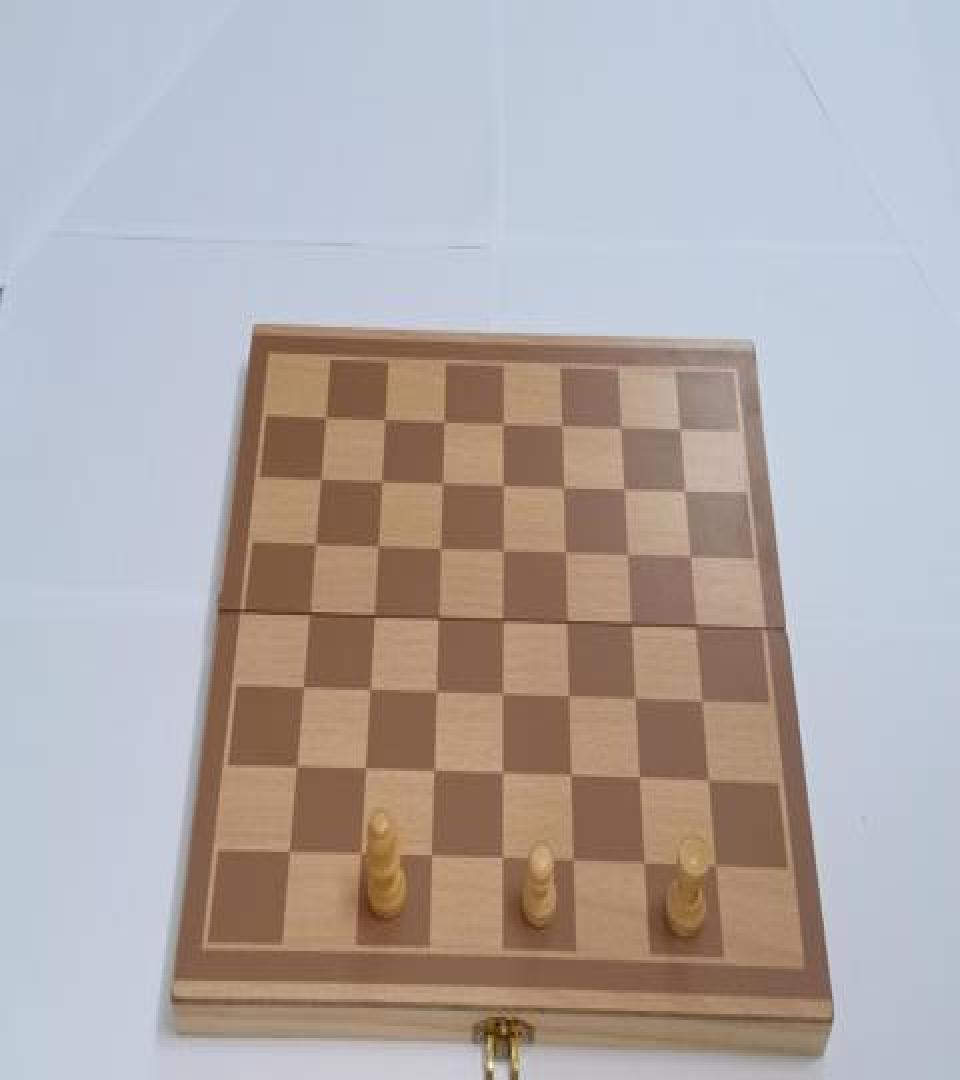xcorner: (374, 466, 392, 494), (437, 406, 455, 434), (426, 760, 444, 788), (496, 472, 514, 500), (555, 412, 573, 440), (679, 478, 697, 506), (318, 402, 336, 429), (312, 465, 330, 492), (306, 531, 324, 558), (300, 600, 318, 627), (294, 675, 312, 702), (287, 755, 305, 782), (279, 840, 297, 867), (377, 405, 395, 432), (370, 532, 388, 559), (365, 603, 383, 630), (361, 678, 379, 705), (351, 843, 369, 870), (435, 470, 453, 497), (431, 606, 449, 633), (428, 681, 446, 708), (423, 846, 441, 873), (496, 538, 514, 565), (495, 683, 513, 710), (495, 849, 513, 876), (557, 474, 575, 501), (559, 540, 577, 567), (561, 610, 579, 637), (565, 766, 583, 793), (567, 852, 585, 879), (615, 414, 633, 441), (618, 477, 636, 504), (622, 543, 640, 570), (630, 689, 648, 716), (634, 768, 652, 795), (639, 855, 657, 882), (674, 417, 692, 444), (685, 546, 703, 573), (691, 617, 709, 644), (704, 771, 722, 798), (711, 857, 729, 884), (356, 758, 374, 784), (433, 536, 451, 562), (496, 410, 514, 436), (496, 608, 514, 634), (495, 764, 513, 790), (563, 686, 581, 712), (626, 614, 644, 640), (697, 692, 715, 718)
